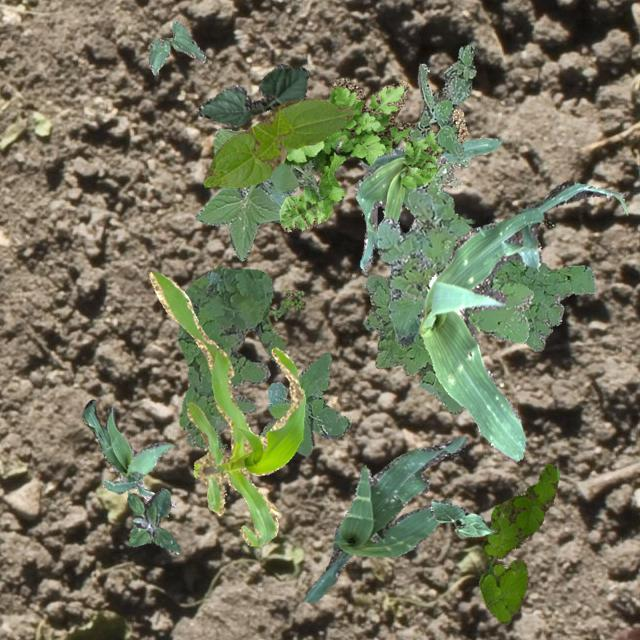crop: (418, 180, 626, 460), (148, 270, 304, 546), (304, 436, 466, 602), (354, 136, 499, 268), (202, 96, 352, 186), (80, 398, 172, 499), (195, 62, 308, 126), (147, 20, 205, 74), (430, 498, 492, 536)
weed: (362, 256, 594, 414), (278, 78, 468, 230), (376, 180, 532, 344), (178, 264, 284, 448), (194, 128, 338, 260), (478, 462, 558, 622), (260, 352, 350, 454), (408, 44, 474, 158), (126, 487, 180, 552), (428, 158, 470, 190), (268, 288, 304, 320)
